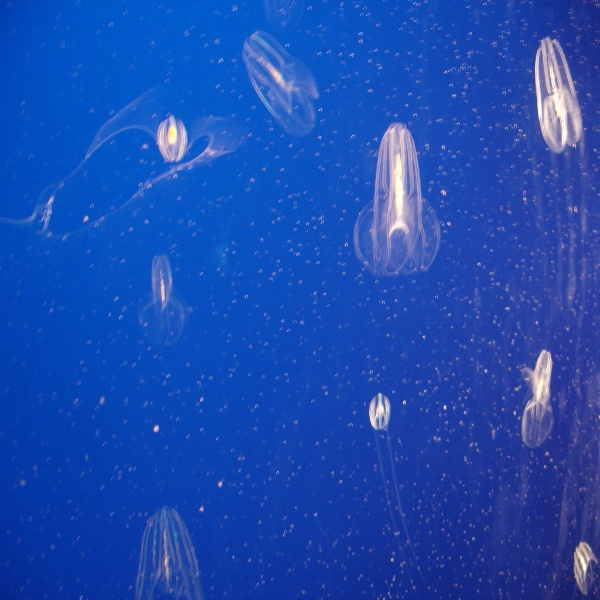Jellyfish: (9, 107, 218, 241), (352, 115, 439, 284), (369, 394, 424, 595), (242, 30, 319, 139), (131, 504, 203, 599), (533, 38, 579, 154), (137, 252, 186, 353), (518, 347, 549, 457), (573, 540, 599, 599)
